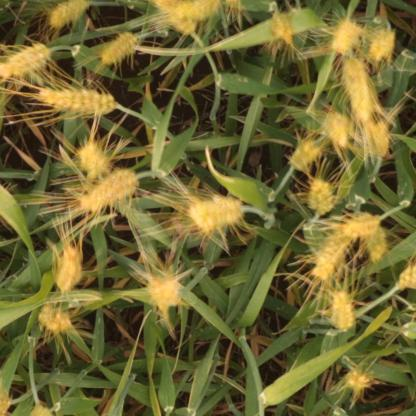whd: (72, 166, 140, 216), (334, 48, 378, 125), (35, 80, 118, 120), (303, 225, 356, 280), (182, 191, 246, 235), (69, 136, 114, 182), (0, 42, 53, 81), (144, 268, 185, 315), (147, 0, 199, 36), (54, 241, 87, 296), (326, 16, 368, 58), (98, 30, 142, 69), (323, 286, 358, 335), (336, 208, 384, 243), (44, 0, 92, 32), (305, 174, 339, 217), (362, 113, 391, 161), (364, 26, 399, 65), (322, 109, 354, 151), (287, 136, 324, 172), (362, 222, 388, 264), (38, 304, 74, 334), (390, 256, 416, 294), (345, 366, 377, 394), (268, 14, 295, 44), (180, 0, 220, 18)
